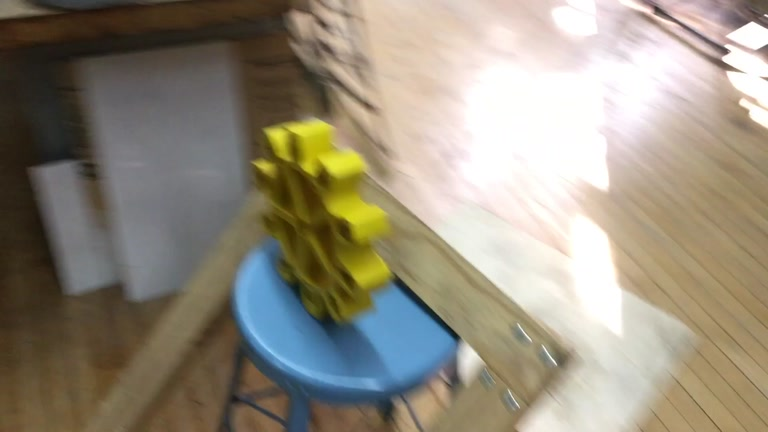gear: (251, 116, 393, 324)
